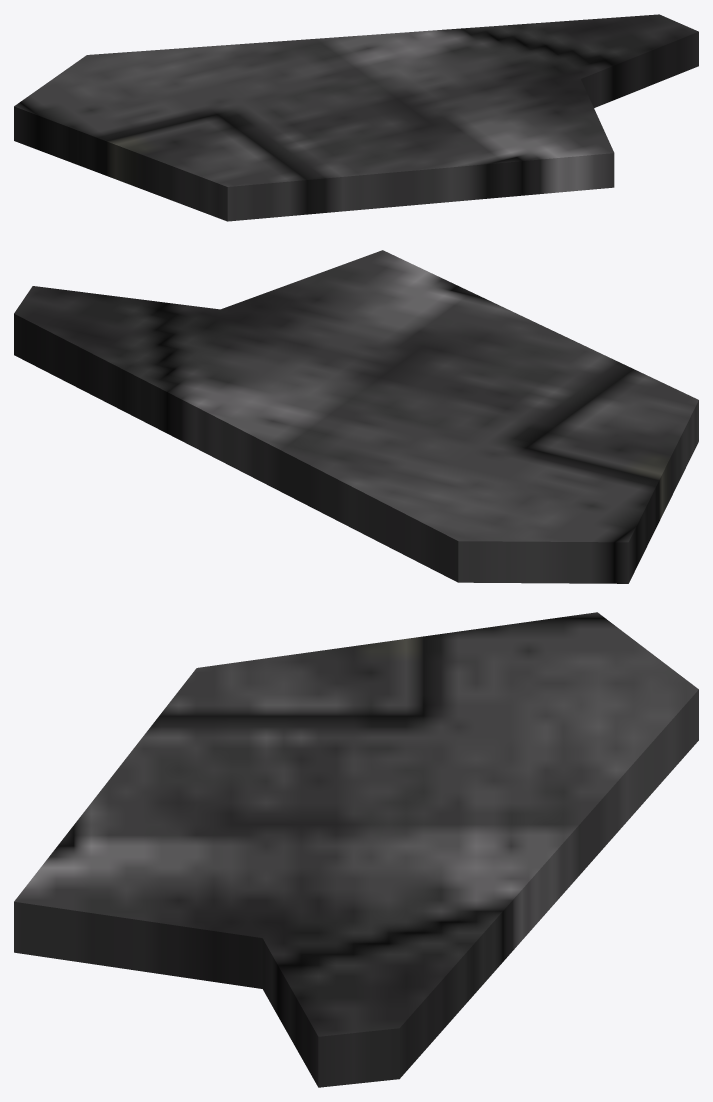
The model's file is USA - Aviation - Stealth Fighter - Damage State 2 - avstealth_d2.glb.
3 renders of one model, top to bottom at view 1: azimuth 30°, elevation 25°; view 2: azimuth 150°, elevation 25°; view 3: azimuth 270°, elevation 25°, orthographic. The views are drawn at different scales.
Visible parts, largest first — view 1: AVSTEALTH_D2; view 2: AVSTEALTH_D2; view 3: AVSTEALTH_D2.
Boxes of the visible parts, x1=… form: AVSTEALTH_D2: x1=14, y1=14, x2=698, y2=221; AVSTEALTH_D2: x1=14, y1=250, x2=698, y2=583; AVSTEALTH_D2: x1=14, y1=612, x2=698, y2=1087.
Bounding box in the file's own units: 6.08 × 0.34 × 4.15.
Materials: 1 (1 with a texture image).
